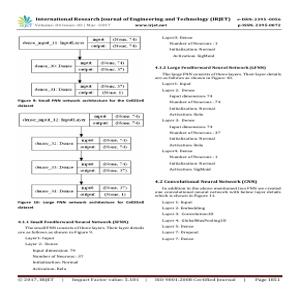diagram: (16, 34, 146, 198)
image: (14, 14, 35, 29)
text: (154, 34, 286, 245), (16, 198, 149, 275), (35, 14, 284, 29)
